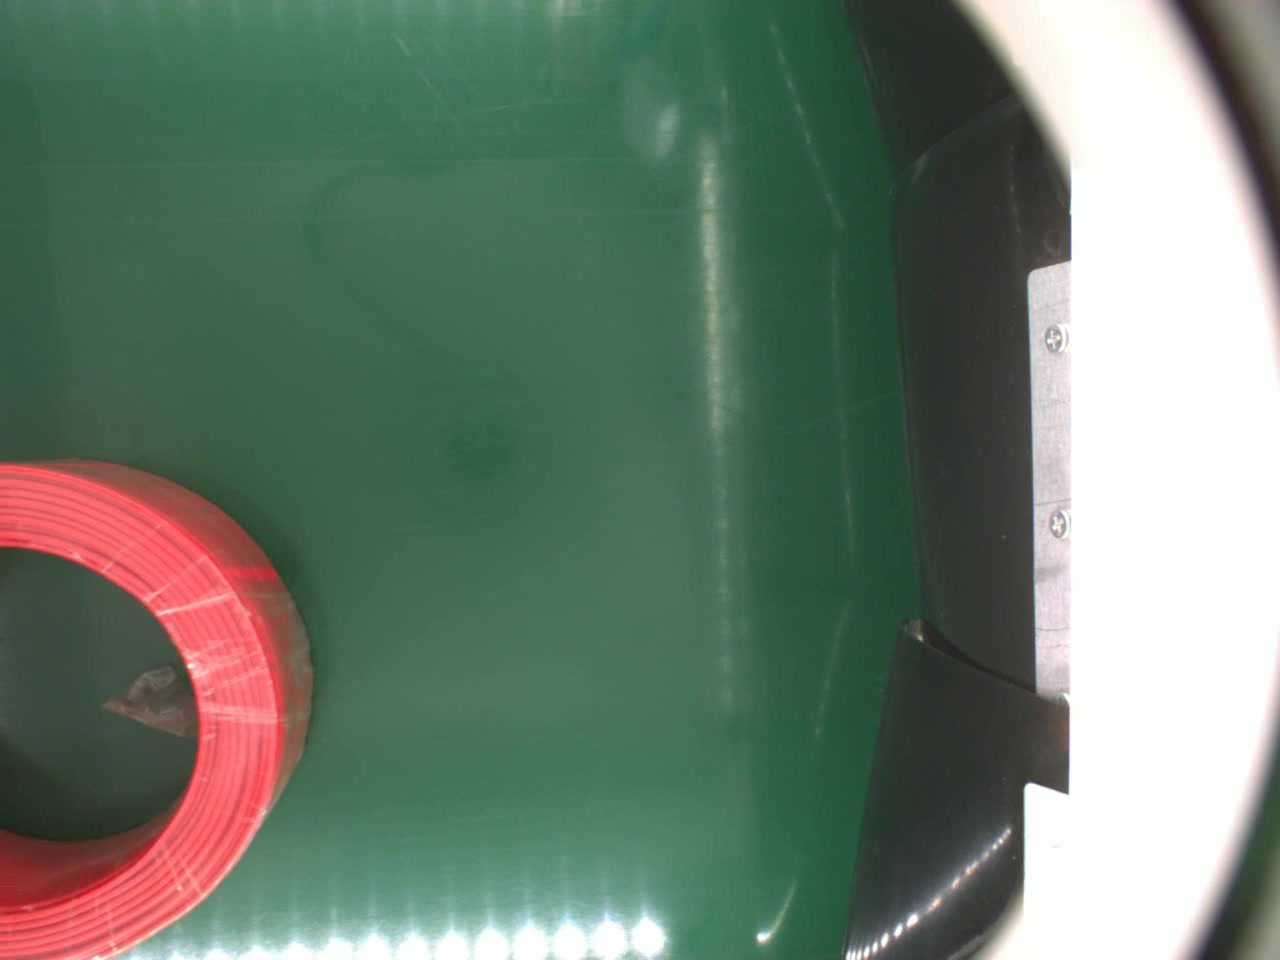red: (0, 454, 317, 960)
